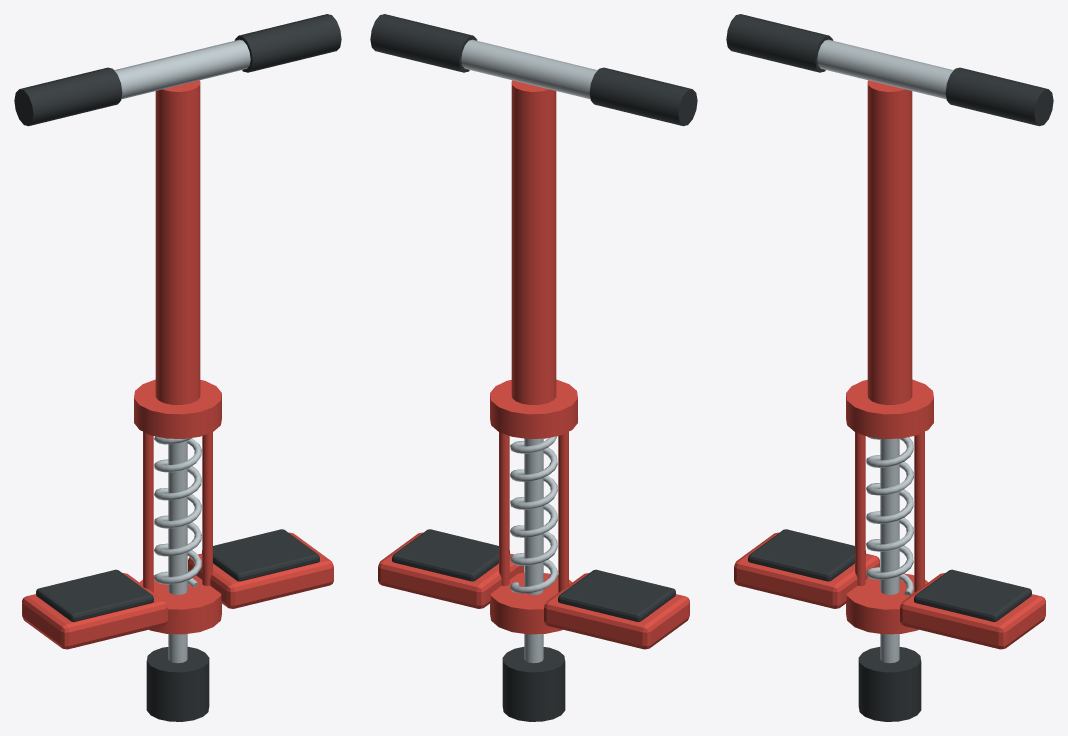
File: pogo_stick.glb
The picture shows the model from 3 angles, left to right: view 1: azimuth 30°, elevation 25°; view 2: azimuth 150°, elevation 25°; view 3: azimuth 330°, elevation 25°; orthographic projection.
Parts seen in each view (by area): view 1: Pogo long upper body, Pogo footrest platform, Pogo rubber ground foot, Pogo rubber handle grip, Pogo cross handlebar, Pogo footrest rubber pad, Pogo rubber handle grip.001, Pogo spring housing collar.001, Pogo footrest platform.001, Pogo footrest rubber pad.001, Pogo visible internal spring, Pogo central sliding shaft (+3 smaller); view 2: Pogo long upper body, Pogo footrest platform, Pogo rubber ground foot, Pogo rubber handle grip, Pogo cross handlebar, Pogo footrest rubber pad, Pogo rubber handle grip.001, Pogo spring housing collar.001, Pogo footrest platform.001, Pogo footrest rubber pad.001, Pogo visible internal spring, Pogo central sliding shaft (+3 smaller); view 3: Pogo long upper body, Pogo footrest platform.001, Pogo rubber ground foot, Pogo rubber handle grip.001, Pogo cross handlebar, Pogo footrest rubber pad.001, Pogo rubber handle grip, Pogo footrest platform, Pogo spring housing collar.001, Pogo footrest rubber pad, Pogo visible internal spring, Pogo central sliding shaft (+3 smaller).
Part boxes in pixels (bbox=[...]): Pogo long upper body: bbox=[155, 80, 200, 404]; Pogo footrest platform: bbox=[22, 573, 167, 649]; Pogo rubber ground foot: bbox=[146, 647, 209, 721]; Pogo rubber handle grip: bbox=[14, 67, 122, 126]; Pogo cross handlebar: bbox=[114, 39, 250, 99]; Pogo footrest rubber pad: bbox=[36, 569, 153, 621]; Pogo rubber handle grip.001: bbox=[234, 14, 341, 72]; Pogo spring housing collar.001: bbox=[134, 379, 221, 438]; Pogo footrest platform.001: bbox=[188, 532, 333, 608]; Pogo footrest rubber pad.001: bbox=[202, 529, 319, 581]; Pogo visible internal spring: bbox=[154, 436, 201, 587]; Pogo central sliding shaft: bbox=[168, 440, 187, 663]; Pogo long upper body: bbox=[511, 80, 556, 404]; Pogo footrest platform: bbox=[544, 573, 689, 649]; Pogo rubber ground foot: bbox=[502, 647, 565, 721]; Pogo rubber handle grip: bbox=[589, 67, 697, 126]; Pogo cross handlebar: bbox=[461, 39, 597, 99]; Pogo footrest rubber pad: bbox=[558, 569, 675, 621]; Pogo rubber handle grip.001: bbox=[370, 14, 477, 72]; Pogo spring housing collar.001: bbox=[490, 379, 577, 438]; Pogo footrest platform.001: bbox=[378, 532, 523, 608]; Pogo footrest rubber pad.001: bbox=[392, 529, 509, 581]; Pogo visible internal spring: bbox=[510, 436, 557, 593]; Pogo central sliding shaft: bbox=[524, 438, 543, 663]; Pogo long upper body: bbox=[867, 80, 912, 404]; Pogo footrest platform.001: bbox=[900, 573, 1045, 649]; Pogo rubber ground foot: bbox=[858, 647, 921, 721]; Pogo rubber handle grip.001: bbox=[945, 67, 1053, 126]; Pogo cross handlebar: bbox=[817, 39, 953, 99]; Pogo footrest rubber pad.001: bbox=[914, 569, 1031, 621]; Pogo rubber handle grip: bbox=[726, 14, 833, 72]; Pogo footrest platform: bbox=[734, 532, 879, 608]; Pogo spring housing collar.001: bbox=[846, 379, 933, 438]; Pogo footrest rubber pad: bbox=[748, 529, 865, 581]; Pogo visible internal spring: bbox=[866, 437, 913, 595]; Pogo central sliding shaft: bbox=[880, 438, 899, 663].
Bounding box in the file's own units: 0.52 × 1.06 × 0.13.
